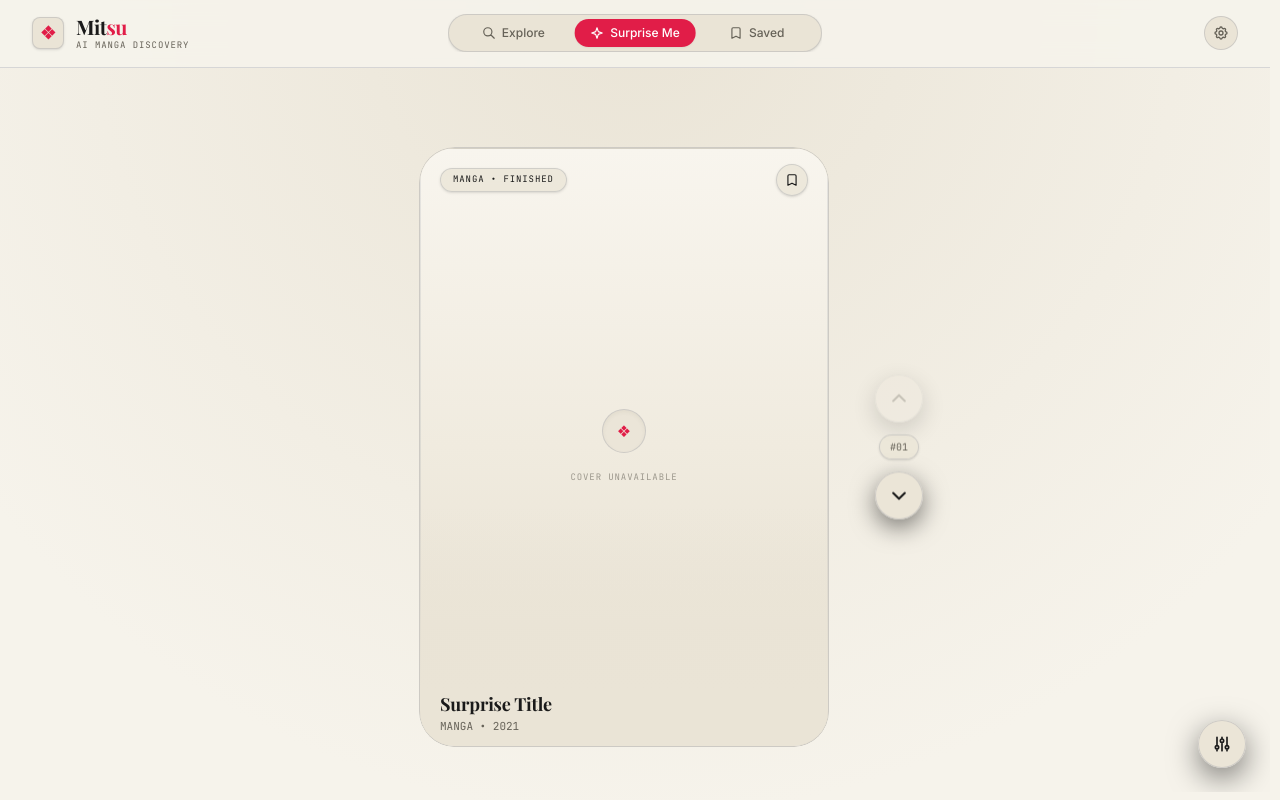
Scenario: Surprise drawer taxonomy (B-04) › renders the served groups in Surprise Me instead of the frozen fallback
This screenshot has width=1280, height=800.
Click the button named "Discovery Filters". click: (1222, 744)
box: x1=1198 y1=720 x2=1246 y2=768
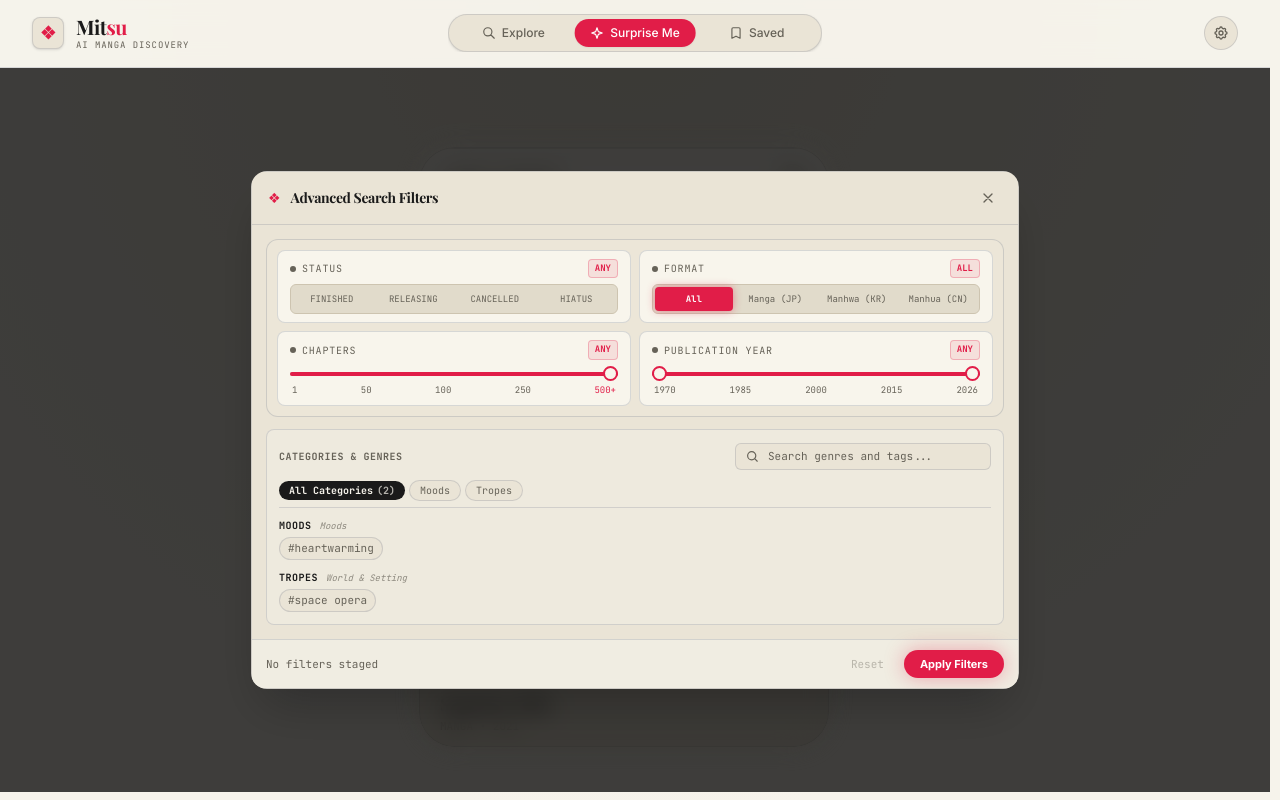
Check: the button "Moods" is shown, box x1=409 y1=479 x2=461 y2=500
